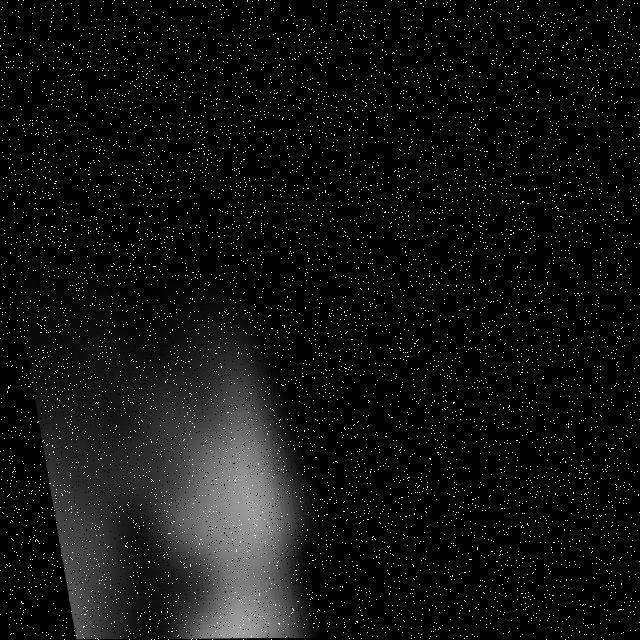person: (44, 237, 350, 640)
